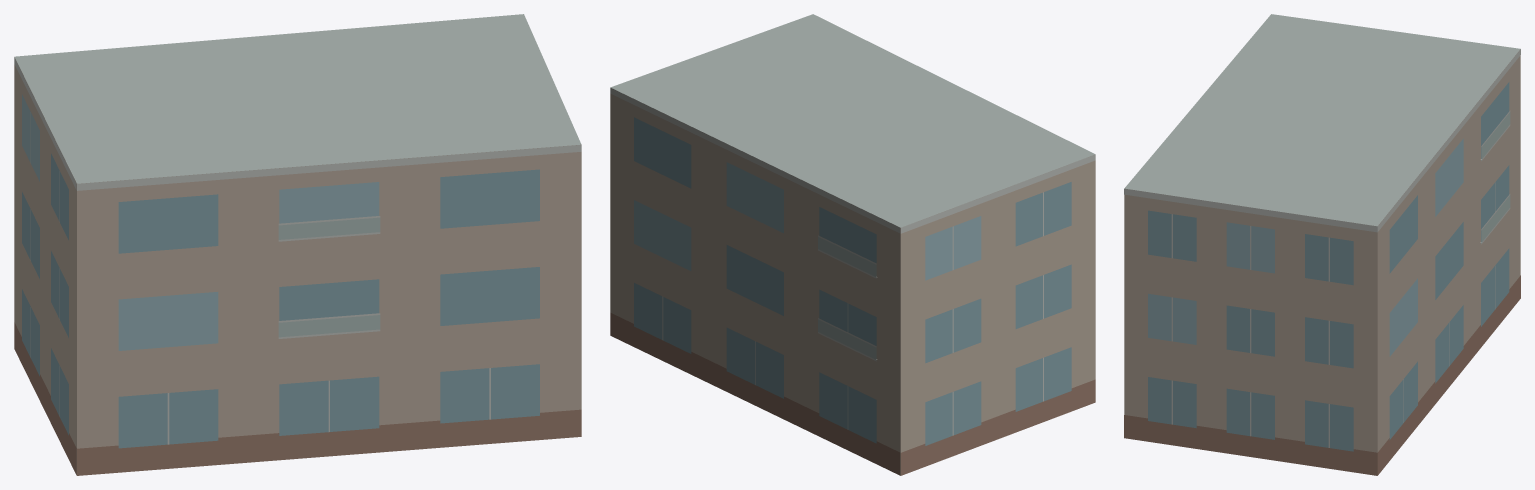
The model's file is survey-upis-32769349.glb.
The picture shows the model from 3 angles, left to right: view 1: azimuth 30°, elevation 25°; view 2: azimuth 150°, elevation 25°; view 3: azimuth 270°, elevation 25°; orthographic projection. The views are drawn at different scales.
Parts seen in each view (by area): view 1: survey-upis-32769349.tmp; view 2: survey-upis-32769349.tmp; view 3: survey-upis-32769349.tmp.
Part boxes in pixels (x1,y1,x2,y2): survey-upis-32769349.tmp: [14, 14, 581, 475]; survey-upis-32769349.tmp: [610, 14, 1095, 475]; survey-upis-32769349.tmp: [1124, 14, 1520, 475].
Bounding box in the file's own units: 18.25 × 10 × 14.41.
